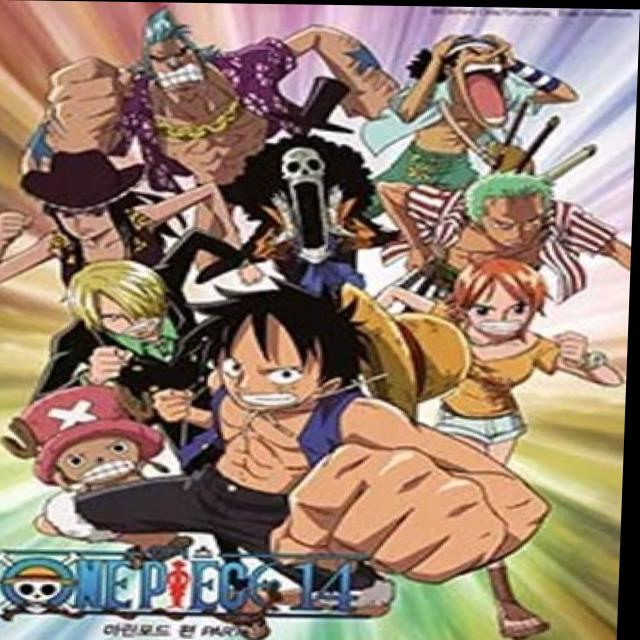Blook: (234, 126, 373, 269)
Chyopa: (0, 366, 184, 497)
Franky: (124, 9, 222, 101)
Luffy: (191, 285, 357, 418)
Nami: (450, 253, 571, 343)
NicoRobin: (32, 141, 147, 247)
Sangdi: (59, 248, 178, 345)
Usopp: (426, 25, 527, 133)
Zoro: (460, 170, 573, 249)
